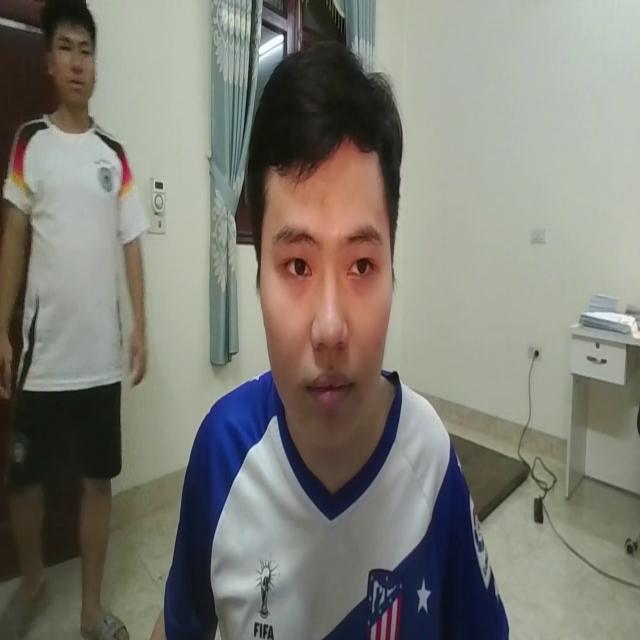extra_person: (0, 0, 151, 640)
student: (166, 33, 516, 640)
